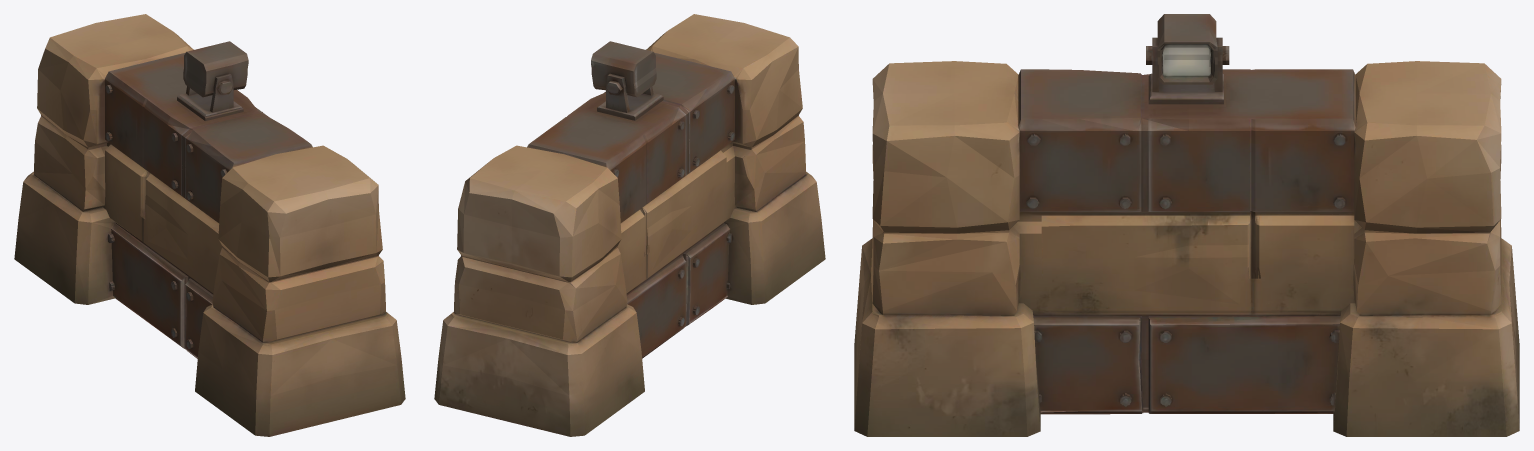
Rendered from desertwall.glb.
The picture shows the model from 3 angles, left to right: view 1: azimuth 30°, elevation 25°; view 2: azimuth 150°, elevation 25°; view 3: azimuth 270°, elevation 25°; orthographic projection. The views are drawn at different scales.
Parts seen in each view (by area): view 1: tripo_node_aafb3627-8cea-415d-b47e-7d7c326418af; view 2: tripo_node_aafb3627-8cea-415d-b47e-7d7c326418af; view 3: tripo_node_aafb3627-8cea-415d-b47e-7d7c326418af.
Boxes of the visible parts, x1,y1,x2,y2 form: tripo_node_aafb3627-8cea-415d-b47e-7d7c326418af: (14,14,405,436); tripo_node_aafb3627-8cea-415d-b47e-7d7c326418af: (434,14,825,436); tripo_node_aafb3627-8cea-415d-b47e-7d7c326418af: (854,14,1519,436).
Bounding box in the file's own units: 1.95 × 3.4 × 5.62.
1 material, 1 textured.
